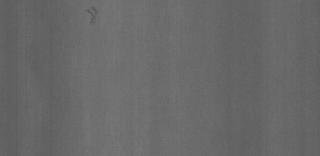water spot: (82, 5, 106, 26)
